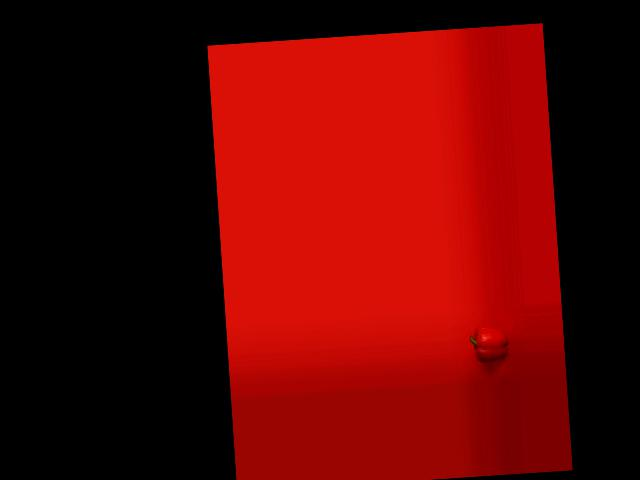bell_pepper: (467, 325, 511, 364)
